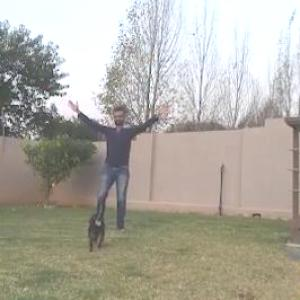takeoff: (70, 100, 170, 226)
